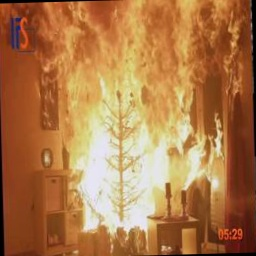fire: (0, 0, 242, 241)
